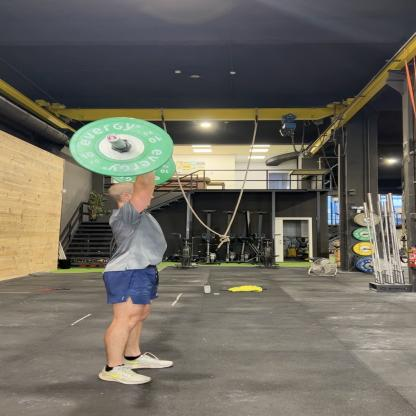barbell: (71, 118, 175, 178)
